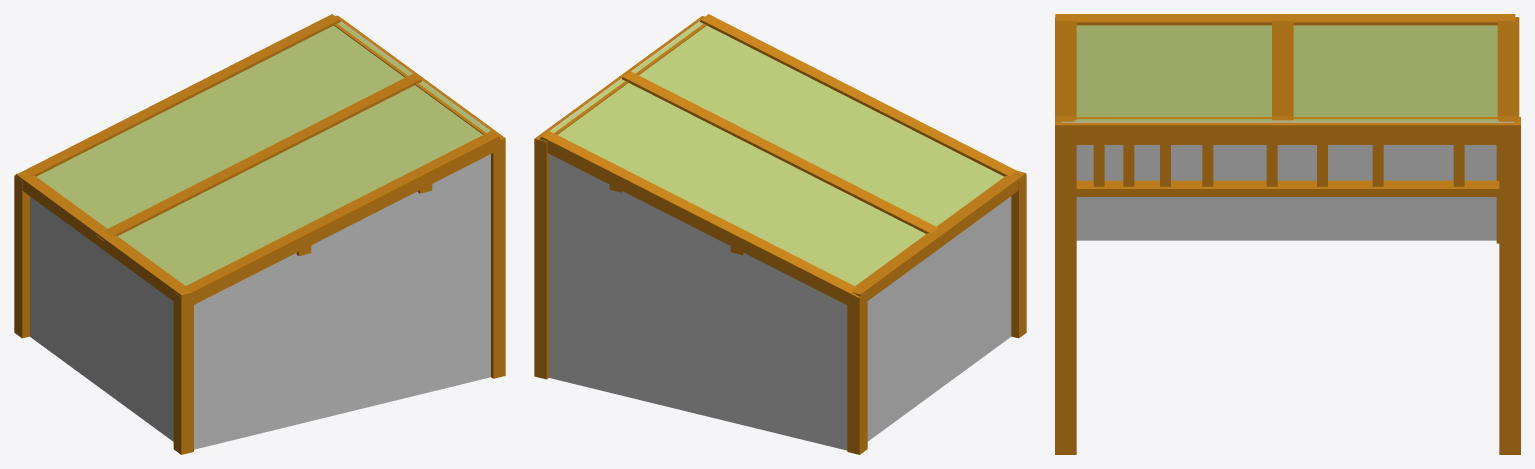
File: hOUSE04.fbx
3 renders of one model, left to right at view 1: azimuth 30°, elevation 25°; view 2: azimuth 150°, elevation 25°; view 3: azimuth 270°, elevation 25°, orthographic. The views are drawn at different scales.
Visible parts, largest first — view 1: Cube, Cube.021, Cube.015, Cube.020, Cube.016, Cube.019, Cube.001, Cube.013, Cube.014, Cube.003; view 2: Cube, Cube.021, Cube.016, Cube.020, Cube.015, Cube.019, Cube.002, Cube.014, Cube.013, Cube.003; view 3: Cube.021, Cube, Cube.003, Cube.004, Cube.002, Cube.001, Cube.019, Cube.016, Cube.015, Cube.020, Cube.012, Cube.011 (+4 smaller).
Boxes of the visible parts, <box> form: Cube: <box>30,21,490,449</box>; Cube.021: <box>36,22,489,285</box>; Cube.015: <box>181,131,500,308</box>; Cube.020: <box>95,73,421,240</box>; Cube.016: <box>15,14,340,176</box>; Cube.019: <box>15,171,190,300</box>; Cube.001: <box>491,138,505,378</box>; Cube.013: <box>173,292,193,454</box>; Cube.014: <box>14,175,29,338</box>; Cube.003: <box>333,17,505,154</box>; Cube: <box>549,21,1011,450</box>; Cube.021: <box>550,22,1004,285</box>; Cube.016: <box>540,131,859,308</box>; Cube.020: <box>622,71,948,238</box>; Cube.015: <box>700,14,1016,176</box>; Cube.019: <box>851,171,1026,300</box>; Cube.002: <box>534,137,548,379</box>; Cube.014: <box>847,292,867,454</box>; Cube.013: <box>1011,175,1026,338</box>; Cube.003: <box>536,16,706,138</box>; Cube.021: <box>1074,25,1498,121</box>; Cube: <box>1061,121,1514,240</box>; Cube.003: <box>1055,117,1515,144</box>; Cube.004: <box>1055,180,1515,196</box>; Cube.002: <box>1499,117,1520,454</box>; Cube.001: <box>1055,122,1076,454</box>; Cube.019: <box>1055,14,1515,25</box>; Cube.016: <box>1497,17,1519,121</box>; Cube.015: <box>1055,18,1076,121</box>; Cube.020: <box>1272,20,1293,120</box>; Cube.012: <box>1453,145,1464,186</box>; Cube.011: <box>1372,145,1383,186</box>.
Bounding box in the file's own units: 694 × 493 × 622.
